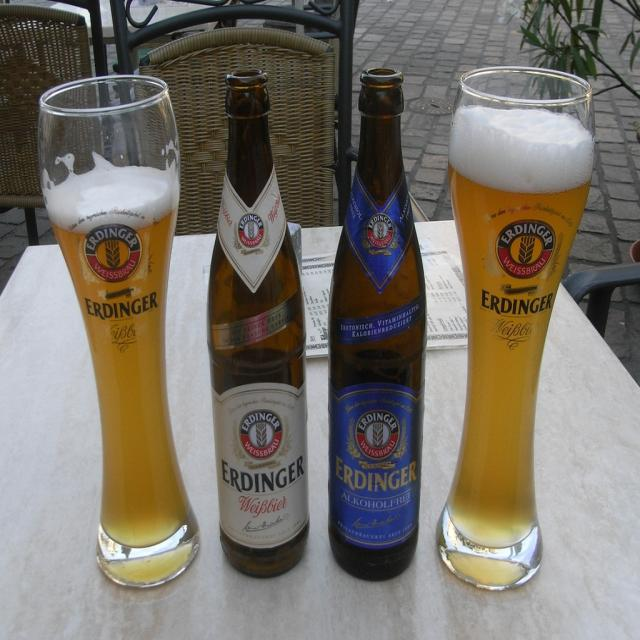erdinger: (477, 197, 581, 316), (66, 207, 164, 324), (330, 395, 422, 498), (221, 393, 309, 497), (231, 212, 274, 263), (361, 212, 405, 259)
